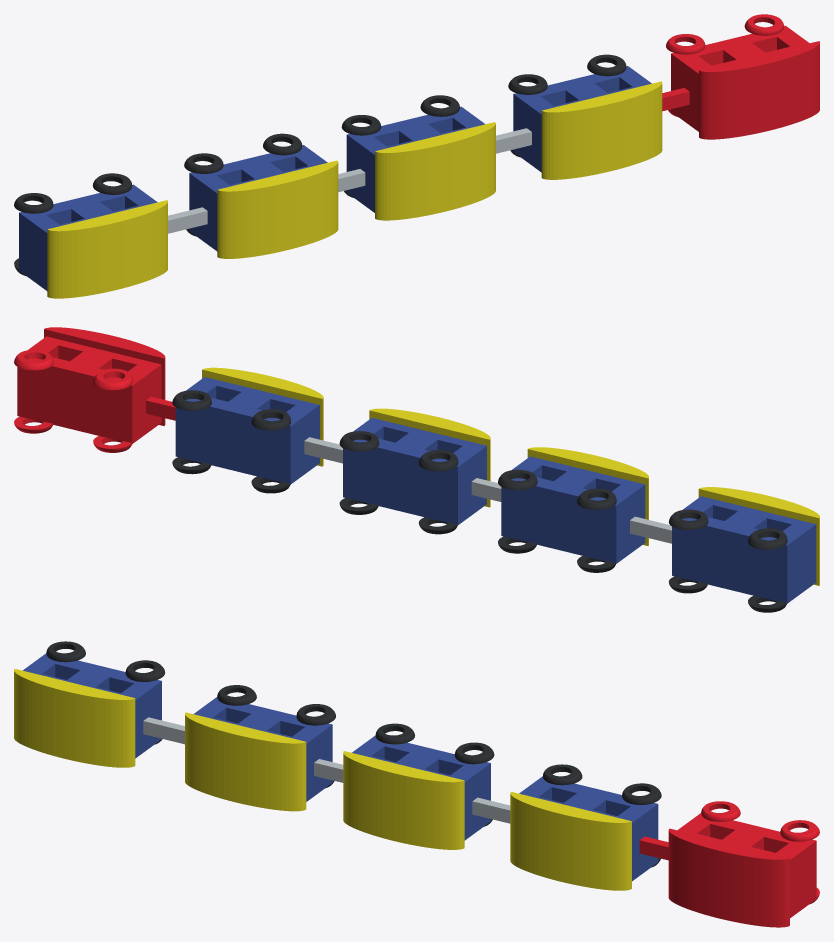
The model's file is tinker.obj.
The picture shows the model from 3 angles, top to bottom: view 1: azimuth 30°, elevation 25°; view 2: azimuth 150°, elevation 25°; view 3: azimuth 330°, elevation 25°; orthographic projection.
Parts seen in each view (by area): view 1: group_0_15326493, group_0_3888547, group_0_15277357, group_0_2829873, group_0_12568524; view 2: group_0_3888547, group_0_15277357, group_0_2829873, group_0_15326493, group_0_12568524; view 3: group_0_15326493, group_0_3888547, group_0_15277357, group_0_2829873, group_0_12568524.
Boxes of the visible parts, <box> form: group_0_15326493: <box>47,81,662,298</box>; group_0_3888547: <box>19,66,651,290</box>; group_0_15277357: <box>662,14,819,139</box>; group_0_2829873: <box>14,54,626,276</box>; group_0_12568524: <box>168,128,531,233</box>; group_0_3888547: <box>175,377,816,603</box>; group_0_15277357: <box>14,327,175,452</box>; group_0_2829873: <box>172,390,787,612</box>; group_0_15326493: <box>202,367,819,585</box>; group_0_12568524: <box>304,437,671,543</box>; group_0_15326493: <box>14,669,631,890</box>; group_0_3888547: <box>23,653,658,881</box>; group_0_15277357: <box>639,801,819,927</box>; group_0_2829873: <box>46,641,661,867</box>; group_0_12568524: <box>143,717,510,823</box>.
Size of the model in its own units: 431 by 38.88 by 50.97.
